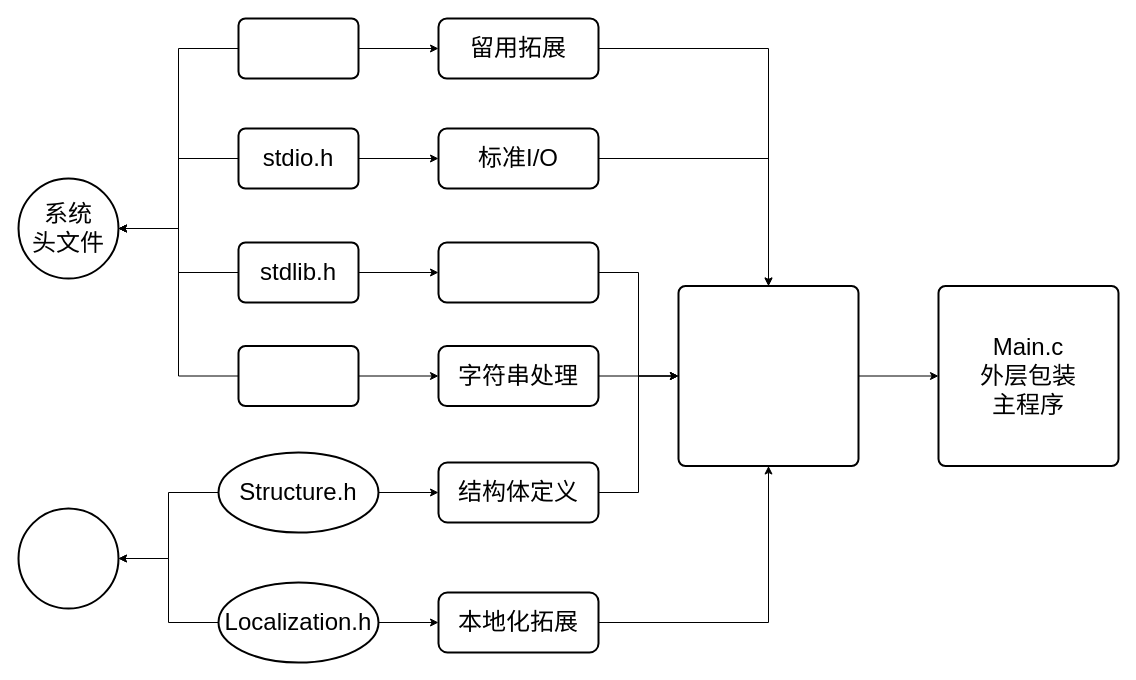
Some shapes in this 1136 by 680 pixel diagram are drawn without their labels. Each missing label, with the box of its shape:
ctype.h: (237, 17, 359, 79)
Functions.h 函数原型 与定义: (677, 284, 859, 466)
string.h: (237, 344, 359, 406)
个人 头文件: (17, 507, 119, 609)
链表相关: (437, 241, 599, 303)
